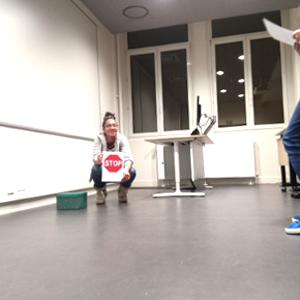stop: (104, 154, 123, 173)
